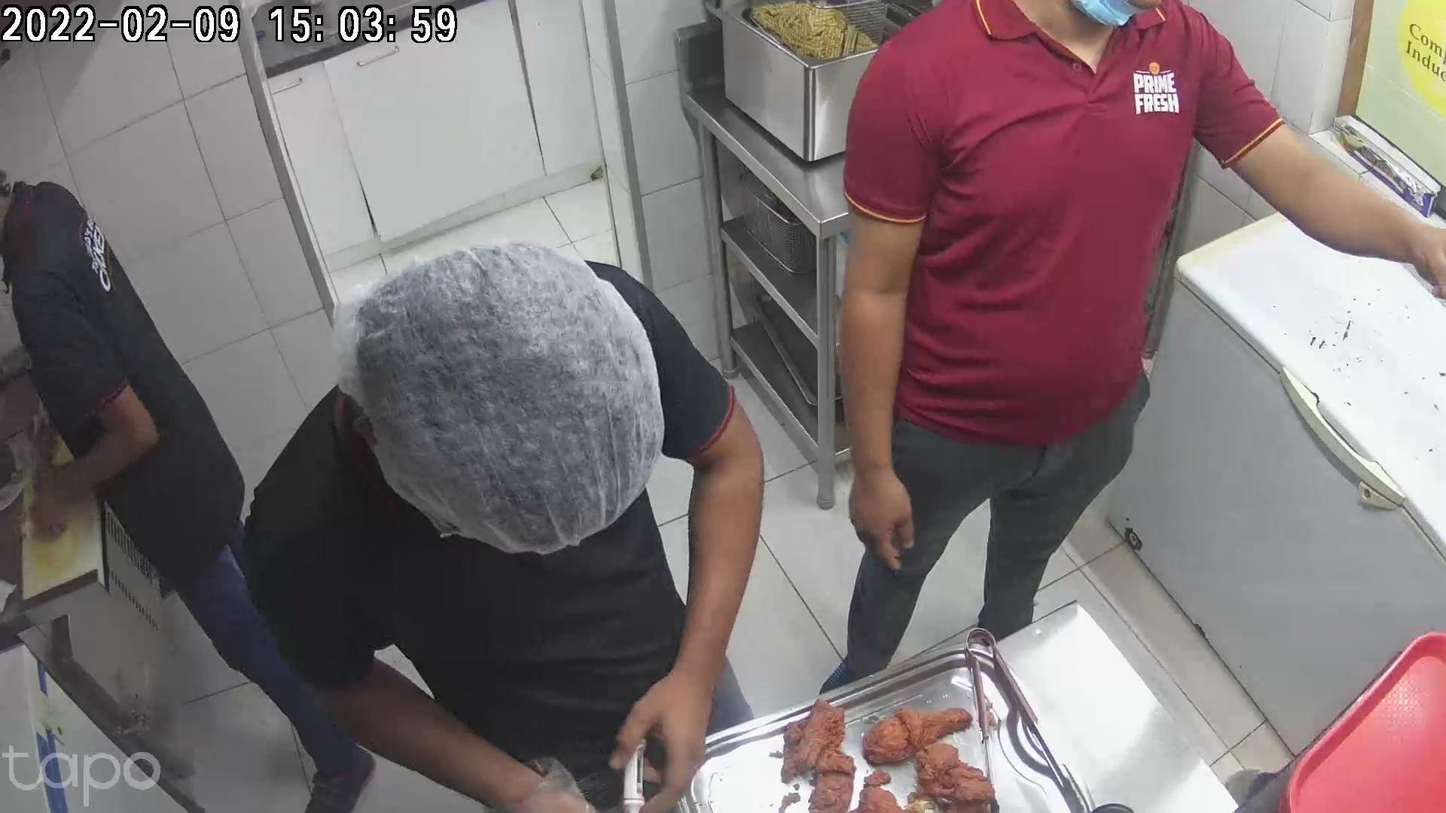no_gloves: (855, 453, 918, 573)
